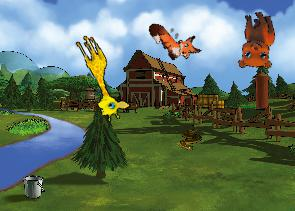bear: (230, 9, 279, 72)
fox: (145, 8, 204, 70)
giraffe: (64, 31, 133, 125)
